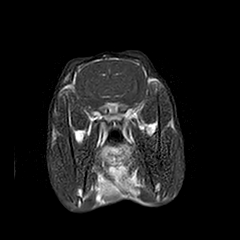Brain: (60, 26, 159, 124)
